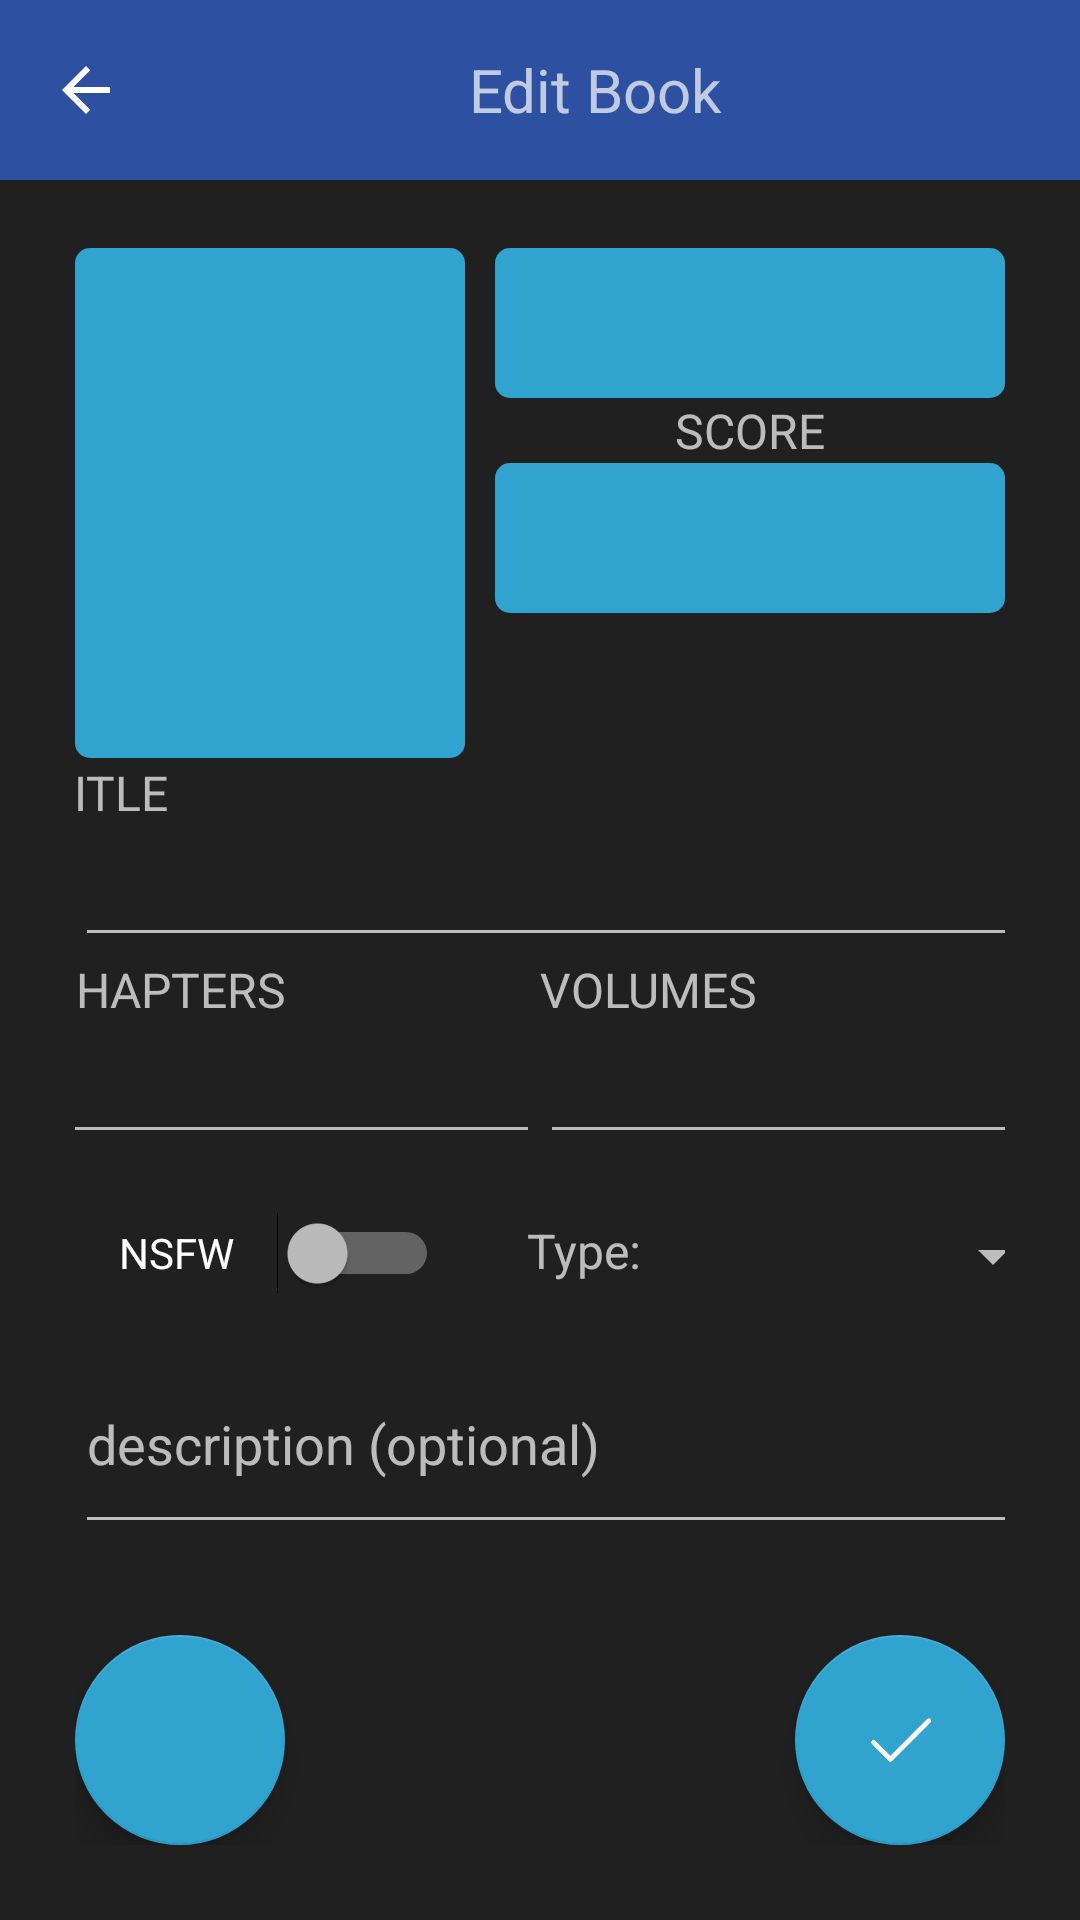

Locate icon controls on the screen. Image size 1080 × 1920, boxes as (x1, y1, x2, y2).
tick: (795, 1635, 1005, 1845)
